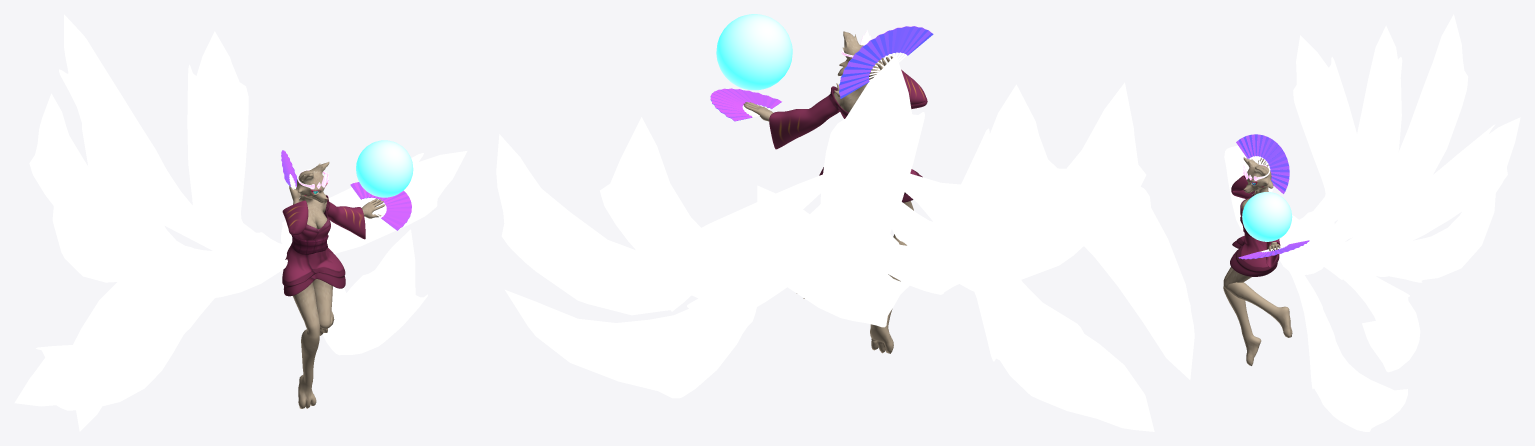
File: Fox1.glb
3 views of the same model, side by side, from view 1: azimuth 30°, elevation 25°; view 2: azimuth 150°, elevation 25°; view 3: azimuth 270°, elevation 25° (orthographic). The views are drawn at different scales.
Parts seen in each view (by area): view 1: tail, body low, Plane, Cube, Plane.005, Plane.004; view 2: tail, Cube, Plane.005, Plane, body low; view 3: tail, body low, Plane.005, Cube, Plane.
Part boxes in pixels (x1=…): tail: x1=14, y1=14, x2=467, y2=431; body low: x1=289, y1=162, x2=385, y2=408; Plane: x1=282, y1=195, x2=365, y2=296; Cube: x1=356, y1=140, x2=413, y2=197; Plane.005: x1=281, y1=150, x2=411, y2=230; Plane.004: x1=291, y1=234, x2=328, y2=254; tail: x1=496, y1=55, x2=1194, y2=431; Cube: x1=716, y1=14, x2=792, y2=90; Plane.005: x1=710, y1=26, x2=933, y2=121; Plane: x1=769, y1=69, x2=927, y2=202; body low: x1=743, y1=31, x2=913, y2=353; tail: x1=1224, y1=14, x2=1520, y2=431; body low: x1=1223, y1=157, x2=1292, y2=365; Plane.005: x1=1236, y1=134, x2=1309, y2=259; Cube: x1=1242, y1=192, x2=1292, y2=241; Plane: x1=1230, y1=175, x2=1280, y2=276.
Size of the model in its own units: 2.46 by 1.75 by 1.54.
9 materials, 4 textured.
